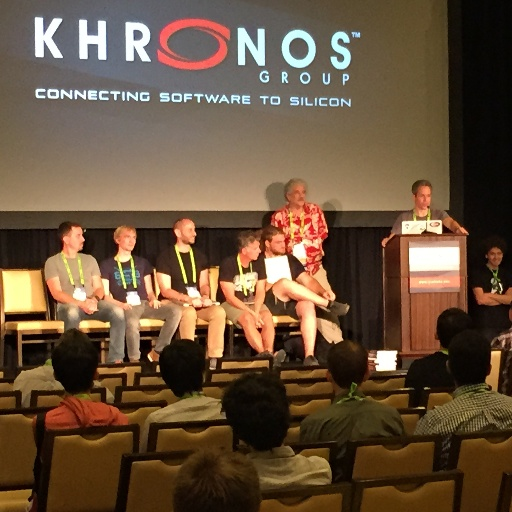hand: (81, 300, 95, 313), (148, 297, 160, 311), (187, 295, 201, 307), (202, 296, 212, 307), (455, 225, 468, 233), (87, 300, 97, 310), (254, 315, 261, 329), (381, 236, 388, 248), (121, 302, 131, 310), (320, 289, 330, 297), (259, 315, 264, 327)
